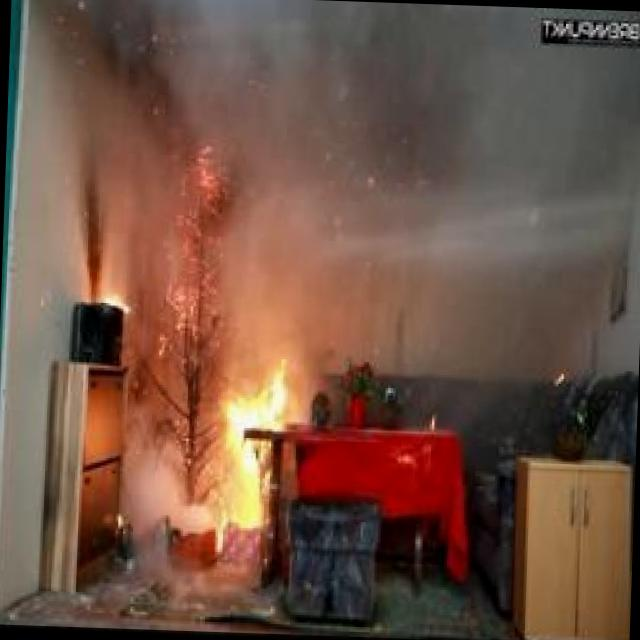fire: (138, 348, 296, 578)
